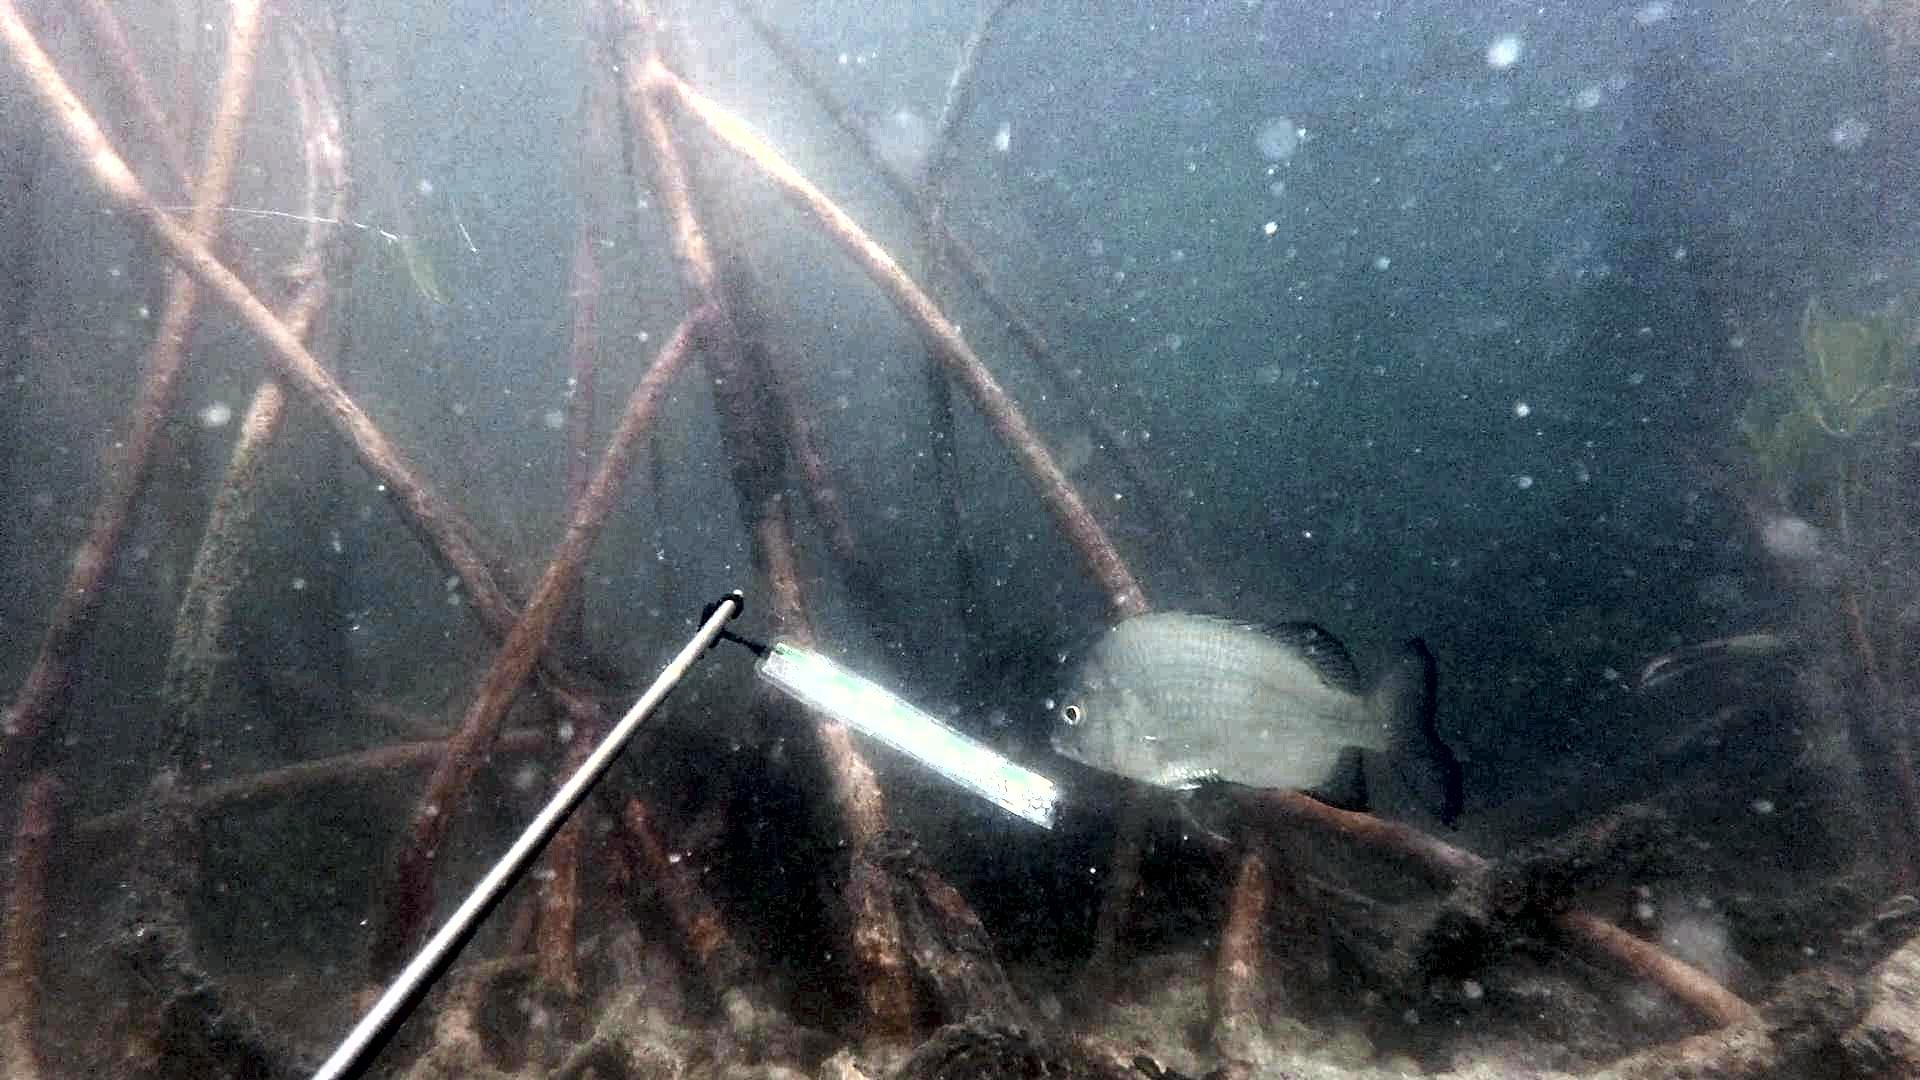acanthopagrus palmaris: (1040, 600, 1465, 859)
